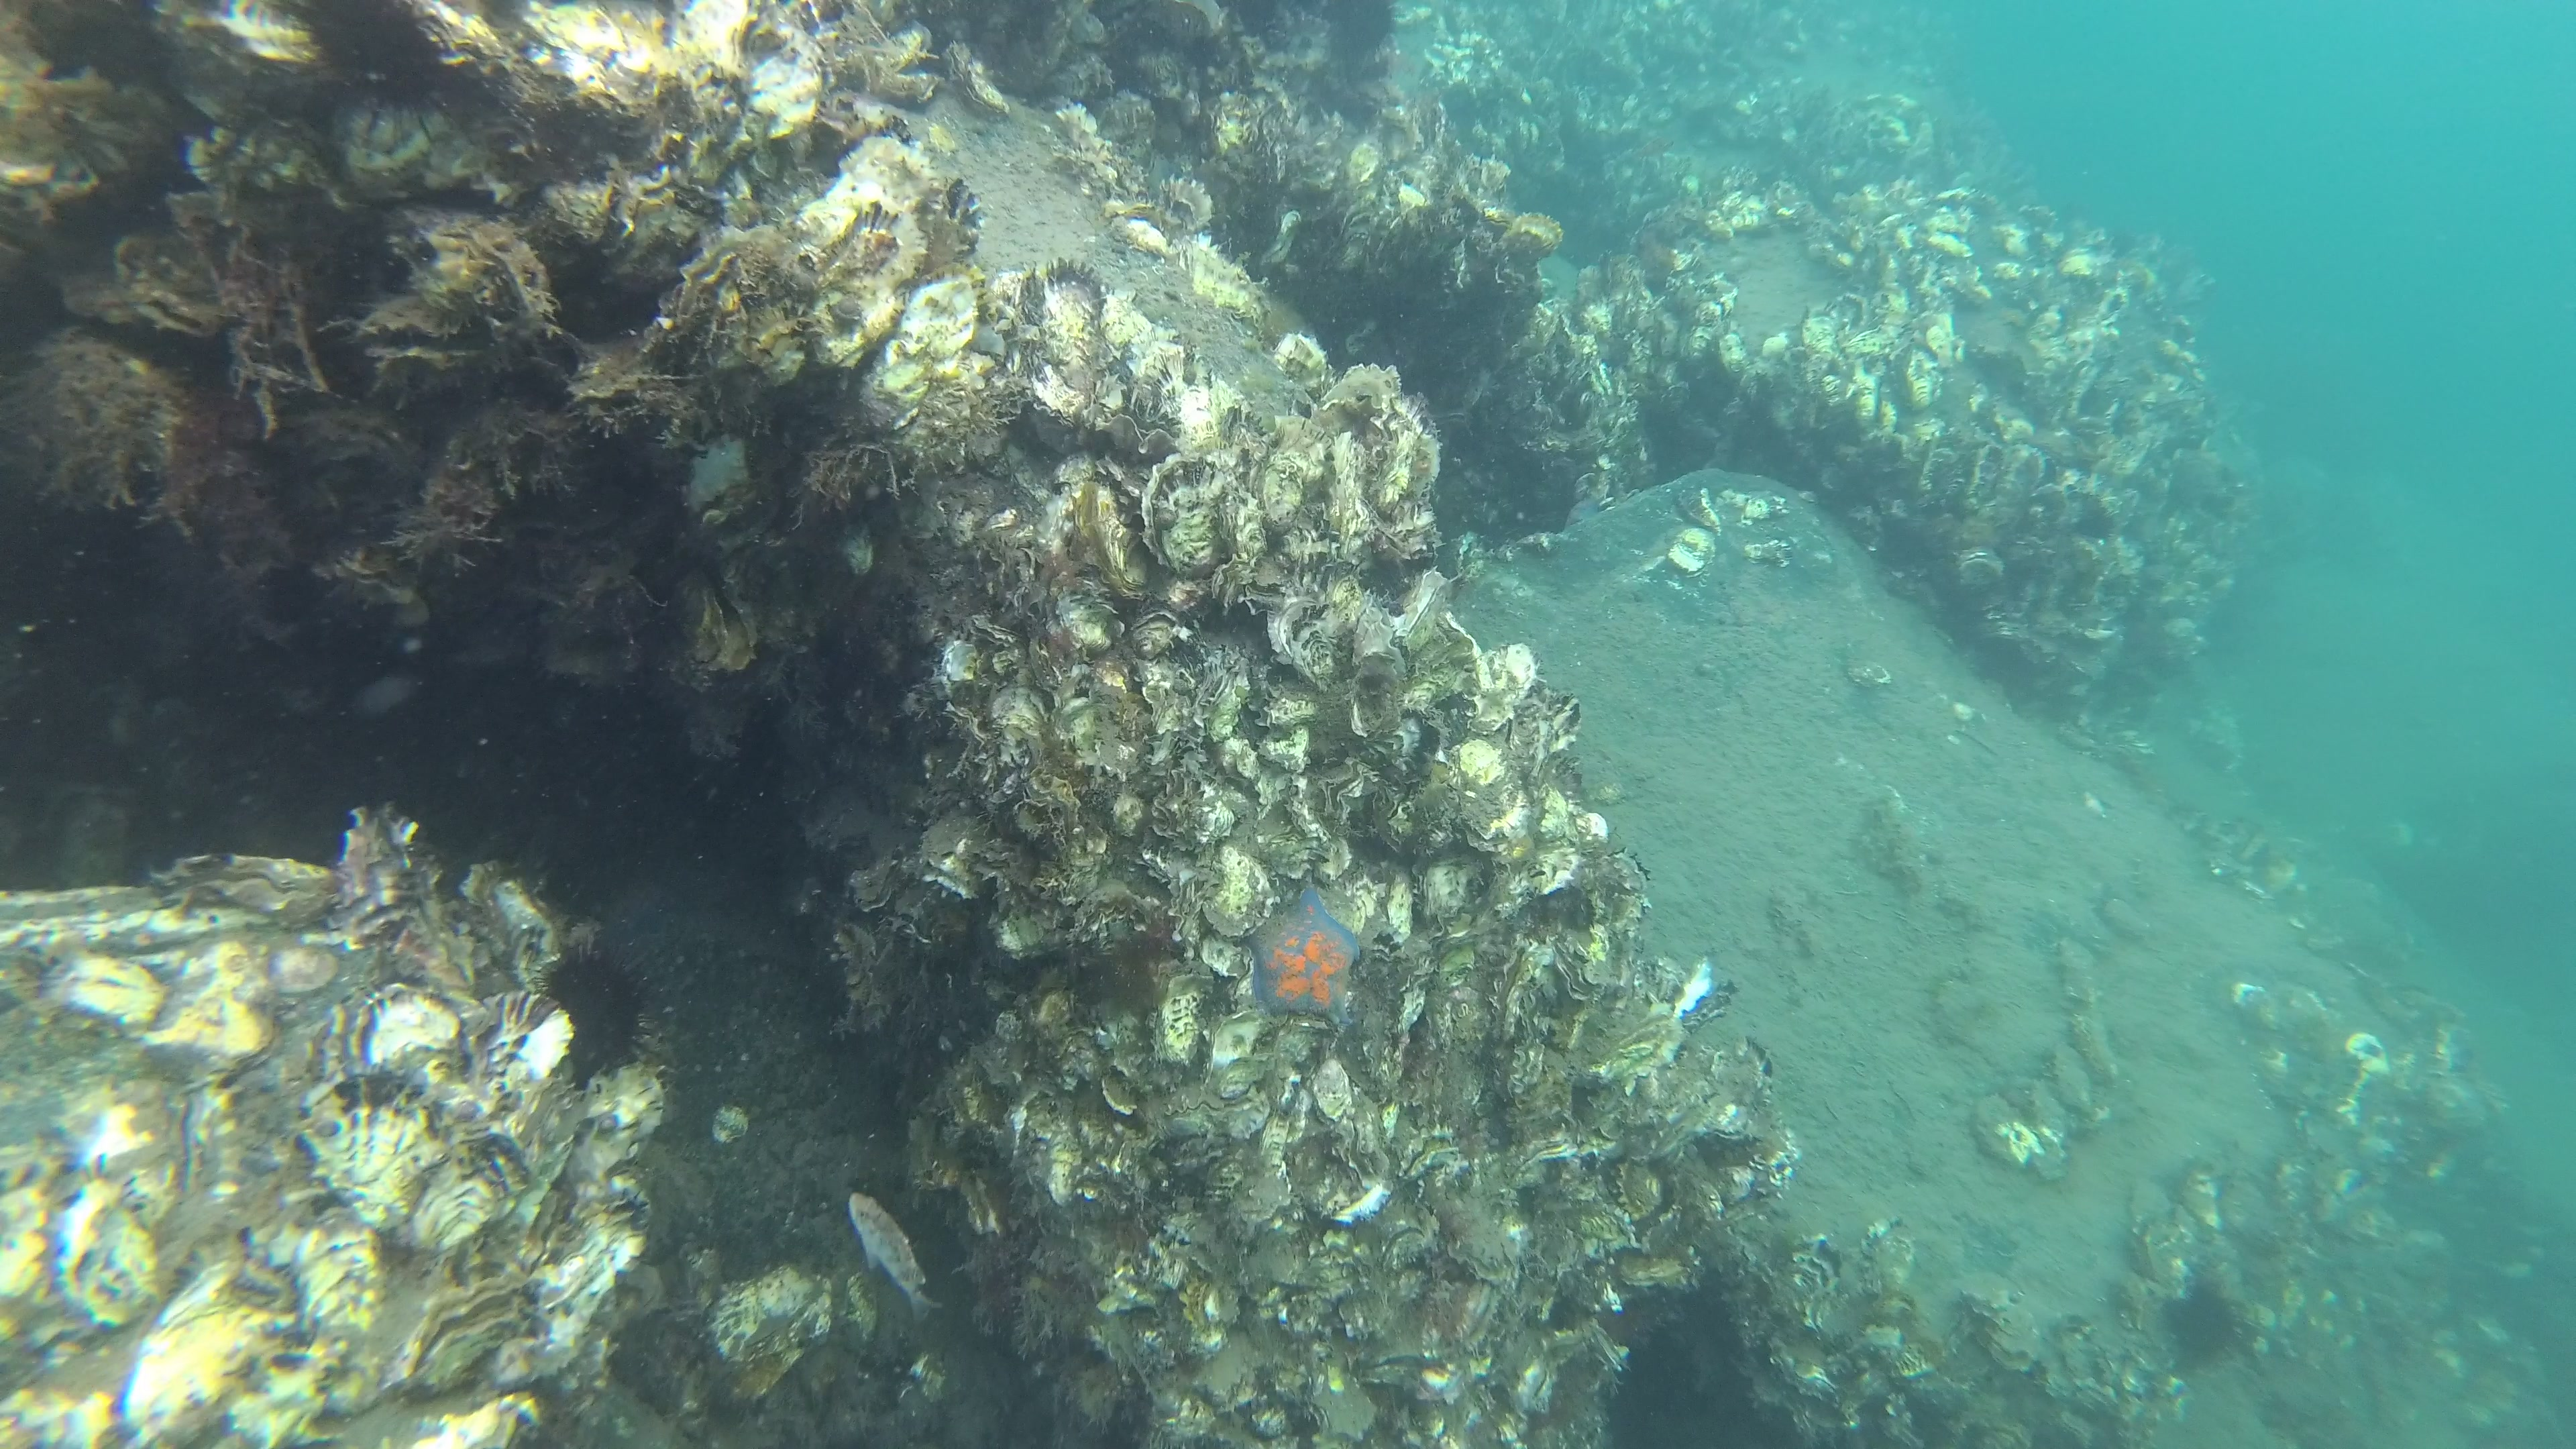echinus: (536, 936, 660, 1097), (2158, 1274, 2256, 1366), (1315, 0, 1396, 58)
starfish: (1247, 883, 1362, 1030)
